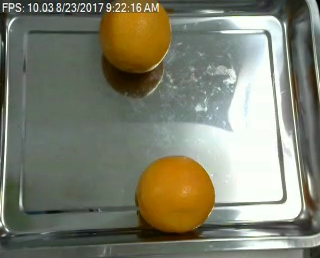Orange: (136, 155, 216, 233), (98, 1, 170, 73)
